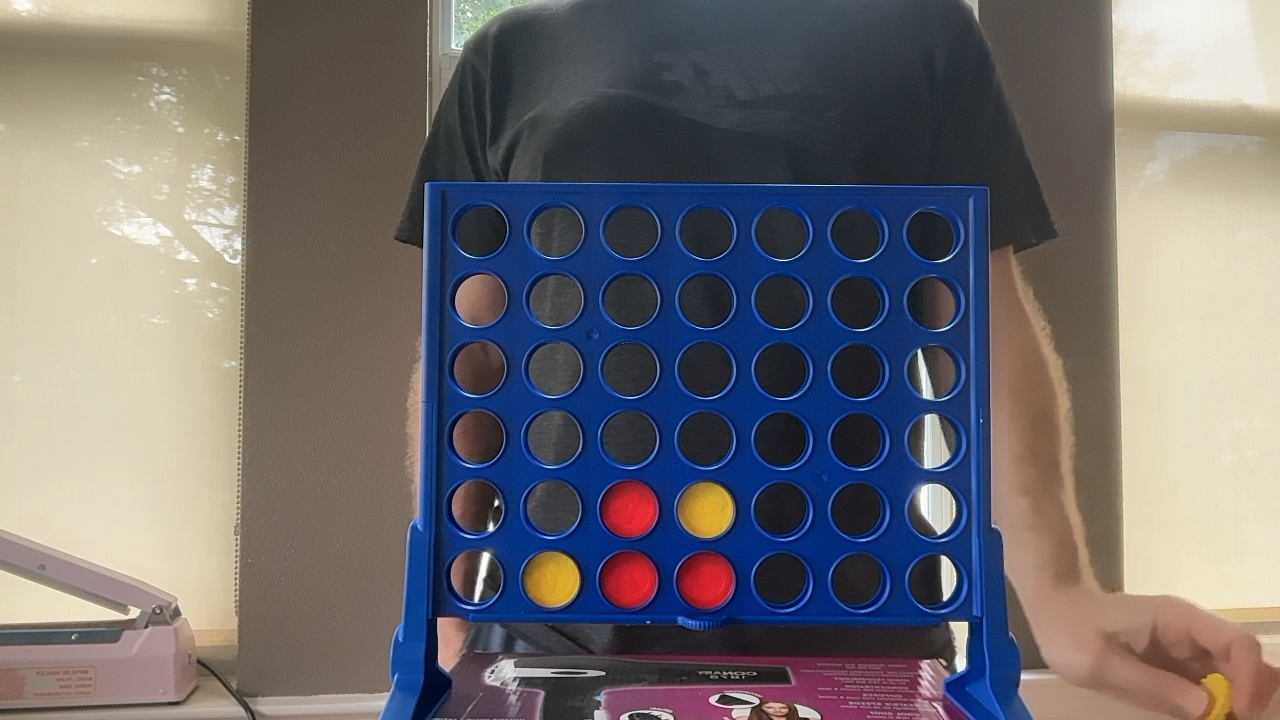red piece: (676, 551, 735, 610), (599, 551, 658, 609), (600, 480, 658, 538)
yellow piece: (522, 551, 581, 608), (677, 481, 735, 538)
